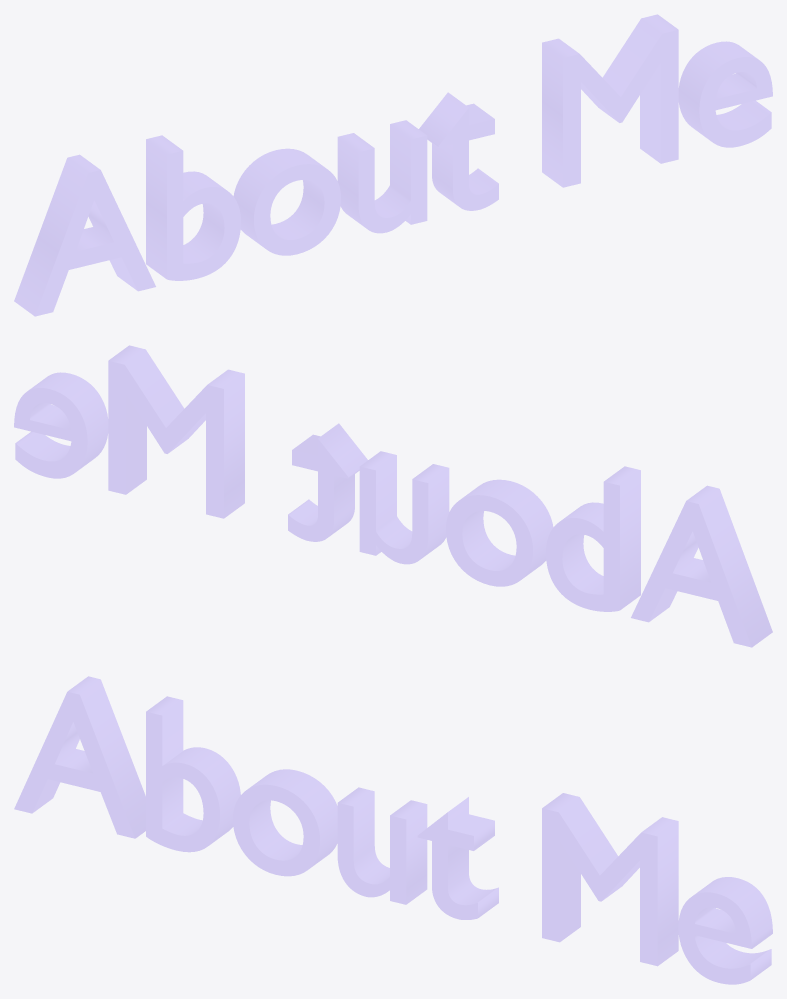
The model's file is abttext.glb.
The picture shows the model from 3 angles, top to bottom: view 1: azimuth 30°, elevation 25°; view 2: azimuth 150°, elevation 25°; view 3: azimuth 330°, elevation 25°; orthographic projection.
Visible parts, largest first — view 1: Text; view 2: Text; view 3: Text.
Boxes of the visible parts, x1=… form: Text: x1=14, y1=14, x2=772, y2=316; Text: x1=14, y1=345, x2=772, y2=647; Text: x1=14, y1=676, x2=772, y2=984.
Bounding box in the file's own units: 4.06 × 0.695 × 0.2.
